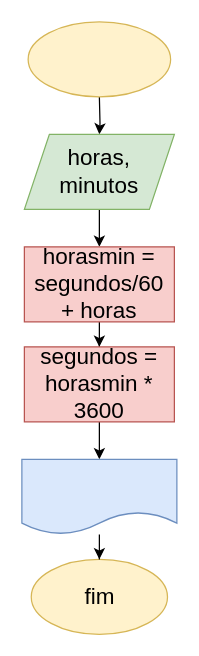
Some shapes in this 199 by 656 pixel diagram are drawn without their labels. Here are the shapes that lost their labels. From the top down, the centre of each, then its label:
At (99,59): "inicio".
At (99,496): "segundos".
